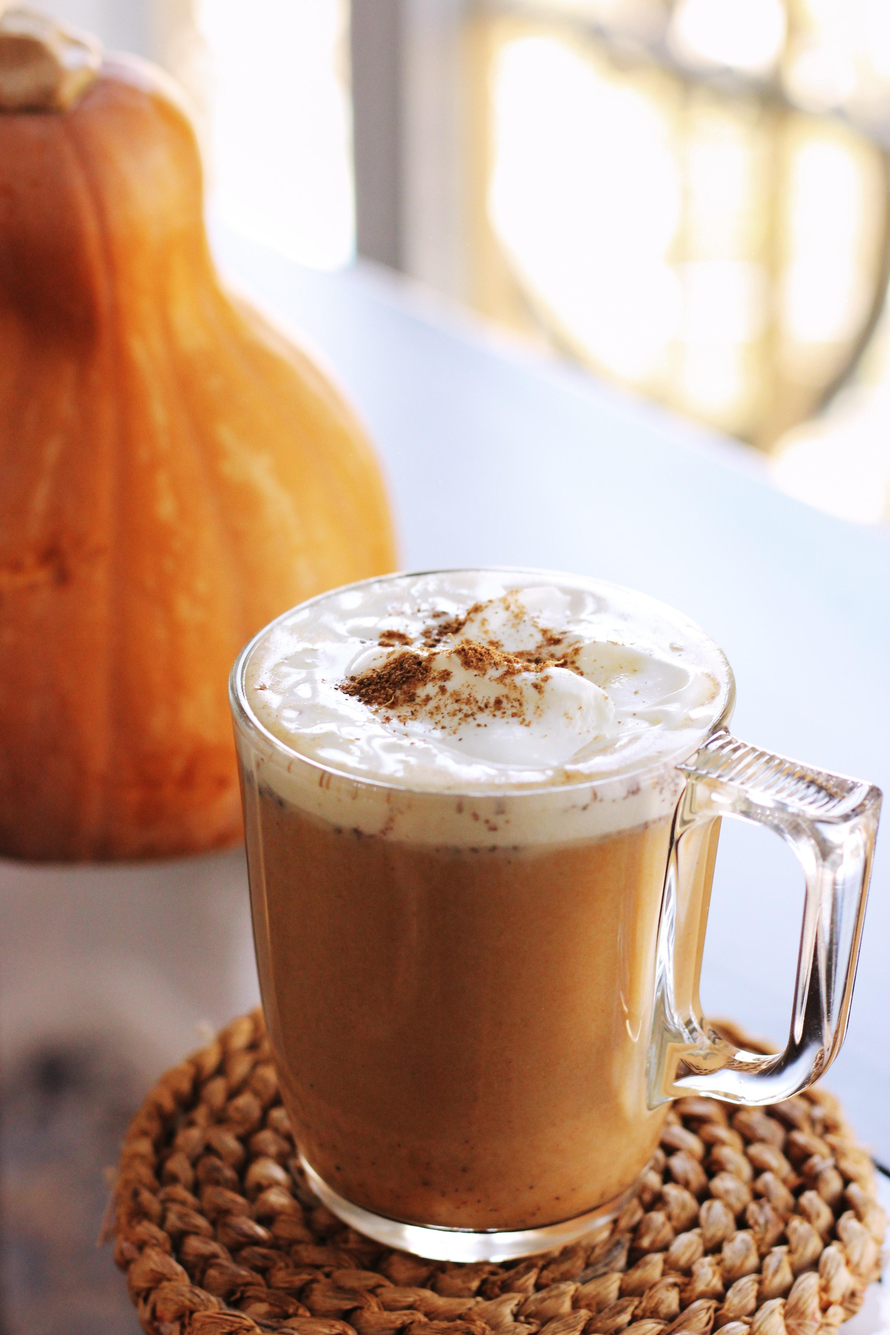glass-mug: (229, 557, 890, 1273)
